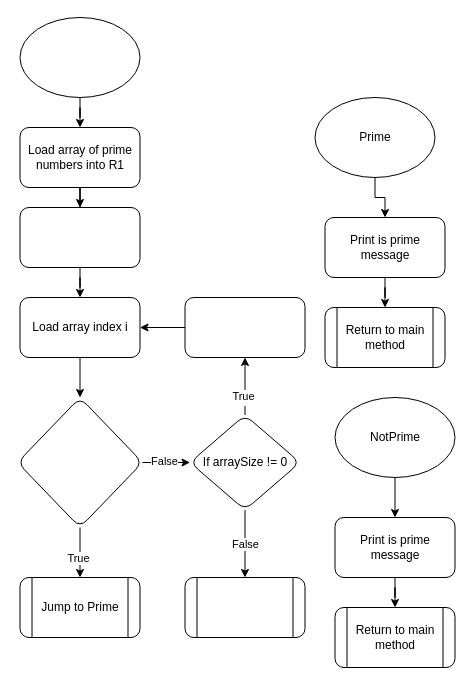
Some shapes in this 473 by 685 pixel diagram are drawn without their labels. Here are the shapes that lost their labels. From the top down, the box of each, then its label:
(19, 16, 140, 98): isPrime
(19, 206, 140, 268): Load size of array into R2
(184, 296, 305, 358): Increment i with 1
(16, 396, 142, 528): Check if they are equal
(184, 576, 305, 638): Jump to NotPrime
